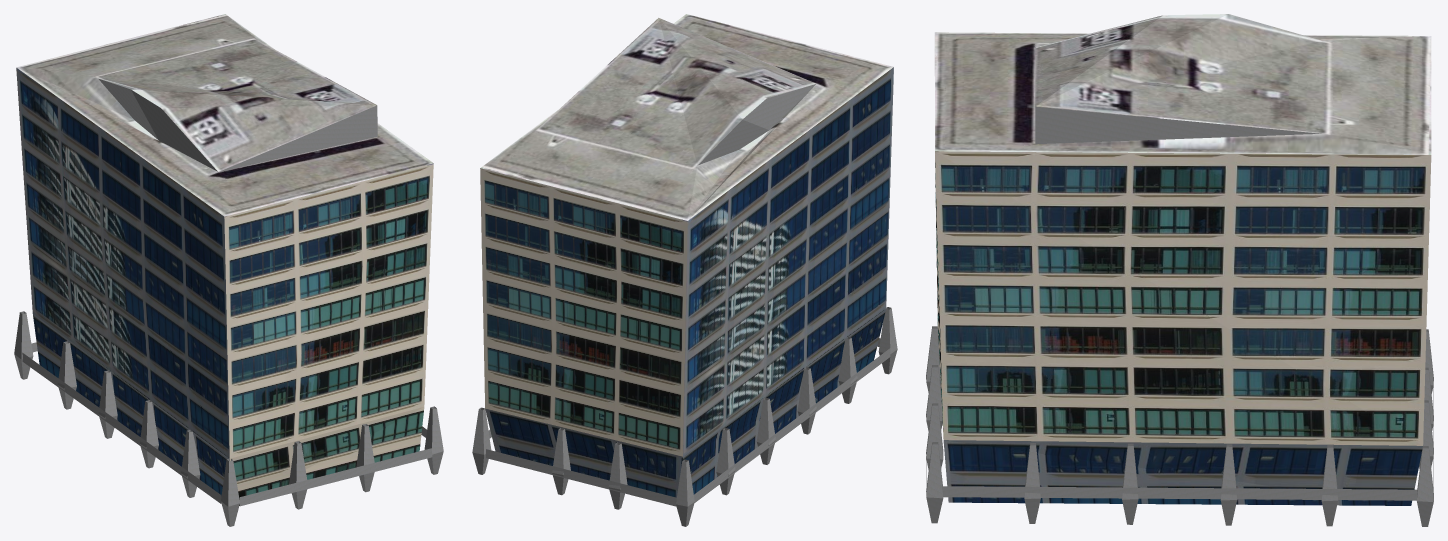
The model's file is building3_1.glb.
3 renders of one model, left to right at view 1: azimuth 30°, elevation 25°; view 2: azimuth 150°, elevation 25°; view 3: azimuth 270°, elevation 25°, orthographic. The views are drawn at different scales.
Parts seen in each view (by area): view 1: skp5EA7, Component.004, Component.007, Component, Component.014, Component.015, Component.013, Component.012, Component.006, Component.005; view 2: skp5EA7, Component, Component.001, Component.003, Component.004, Component.002, Component.013, Component.014, Component.015, Component.012; view 3: skp5EA7, Component.007, Component.001, Component.009, Component.011, Component.008, Component.010, Component.005, Component.006.
Boxes of the visible parts, x1,y1,x2,y2 form: skp5EA7: (16, 14, 433, 506); Component.004: (221, 458, 239, 526); Component.007: (424, 406, 443, 474); Component: (14, 311, 33, 379); Component.014: (98, 370, 117, 438); Component.015: (139, 400, 158, 468); Component.013: (57, 341, 76, 409); Component.012: (181, 430, 200, 497); Component.006: (289, 441, 307, 509); Component.005: (356, 424, 374, 492); skp5EA7: (480, 14, 893, 506); Component: (676, 459, 694, 526); Component.001: (472, 407, 491, 474); Component.003: (608, 442, 627, 509); Component.004: (878, 307, 897, 374); Component.002: (552, 428, 570, 495); Component.013: (716, 428, 735, 495); Component.014: (756, 397, 775, 464); Component.015: (797, 367, 816, 434); Component.012: (838, 336, 857, 403); skp5EA7: (926, 14, 1433, 505); Component.007: (926, 442, 943, 523); Component.001: (1416, 446, 1433, 526); Component.009: (1220, 444, 1237, 525); Component.011: (1122, 443, 1138, 524); Component.008: (1321, 445, 1337, 526); Component.010: (1024, 443, 1040, 523); Component.005: (926, 403, 943, 469); Component.006: (926, 365, 942, 430).
Size of the model in its own units: 28.43 by 43.27 by 48.23.
Materials: 8 (7 with a texture image).
